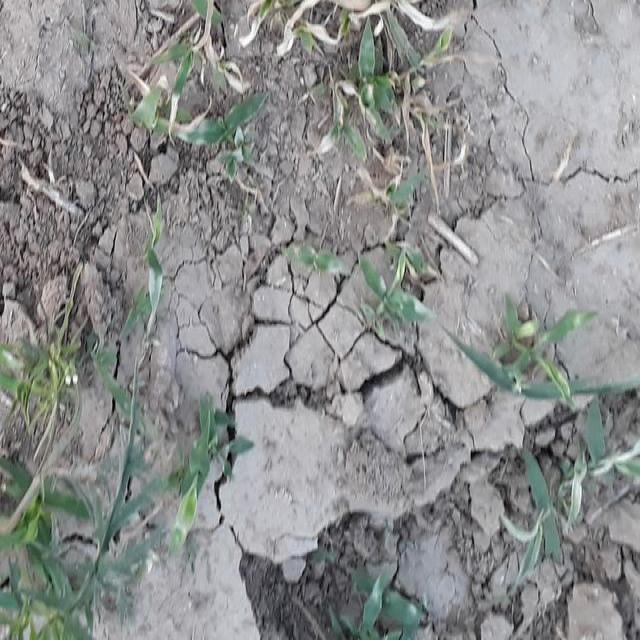weed: (0, 306, 161, 640), (118, 1, 445, 161)
